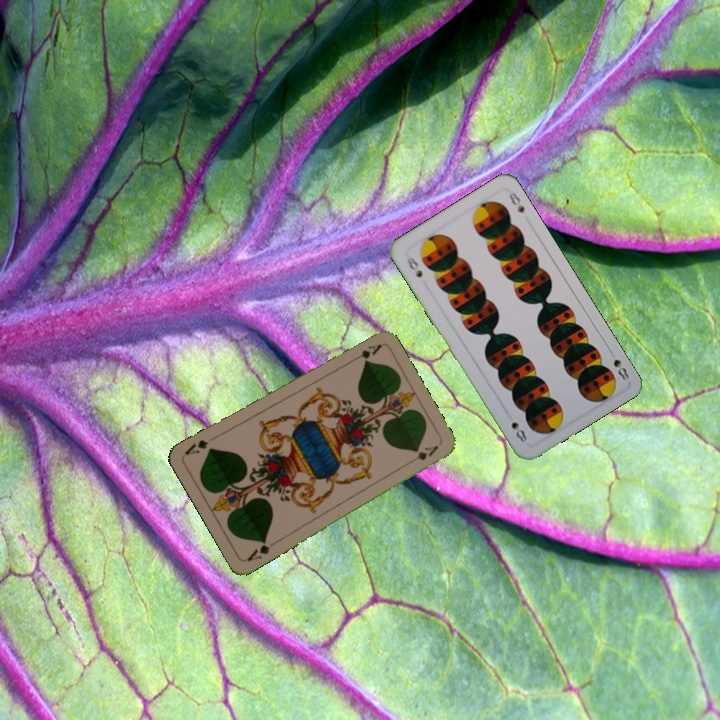GA: (243, 536, 279, 564), (346, 340, 384, 366)
S8: (605, 346, 632, 383), (402, 253, 425, 280)
